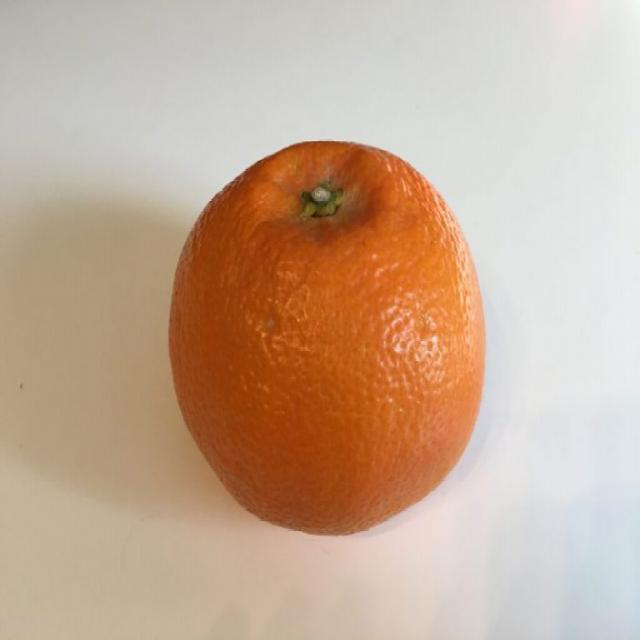Orange: (172, 143, 488, 540)
